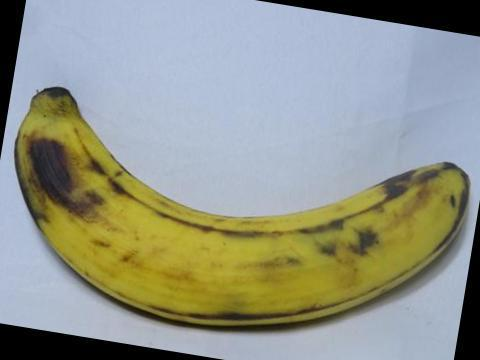ripe: (4, 72, 476, 331)
